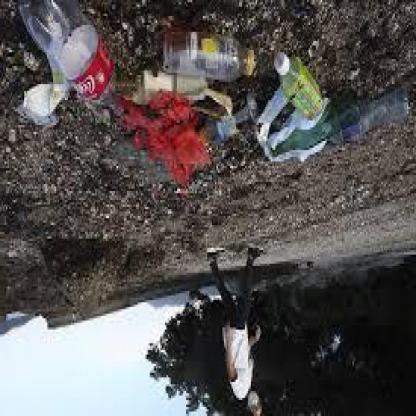Plastic: (15, 1, 116, 110), (160, 23, 258, 83), (318, 87, 414, 147), (273, 49, 327, 121)
